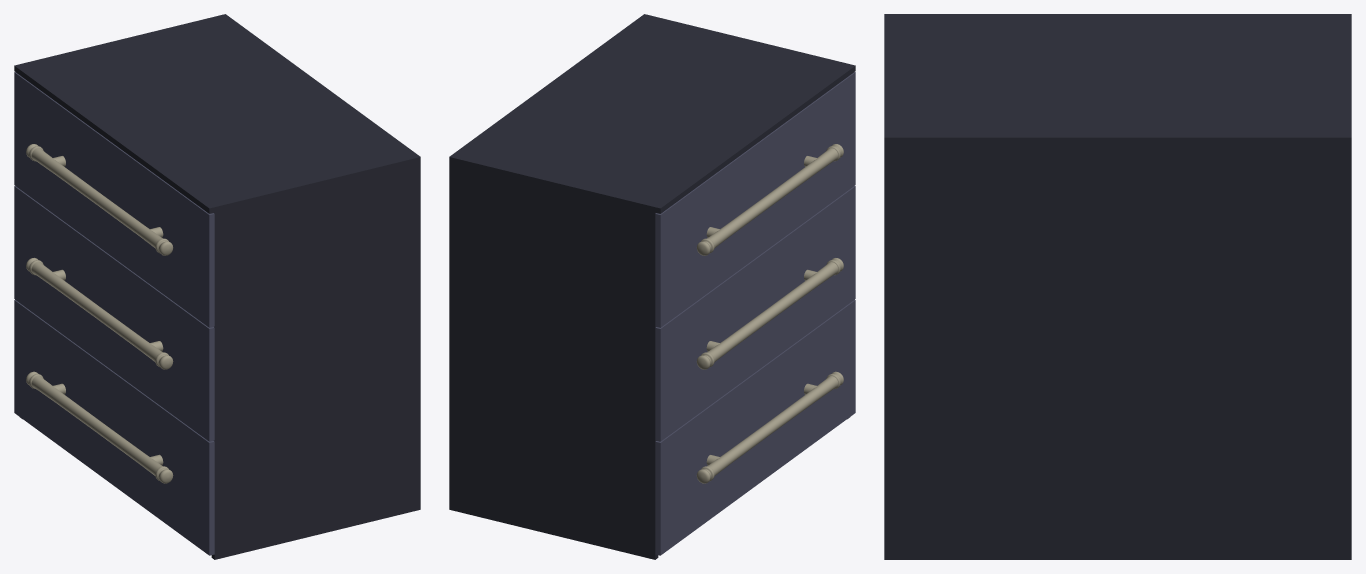
The model's file is house-cupboard.glb.
3 views of the same model, side by side, from view 1: azimuth 30°, elevation 25°; view 2: azimuth 150°, elevation 25°; view 3: azimuth 270°, elevation 25° (orthographic). The views are drawn at different scales.
Visible parts, largest first — view 1: CupBoard.001, CupBoard.003, CupBoard.002, CupBoard, CupBoard-Handle.002, CupBoard-Handle, CupBoard-Handle.001; view 2: CupBoard.001, CupBoard.003, CupBoard.002, CupBoard, CupBoard-Handle.002, CupBoard-Handle, CupBoard-Handle.001; view 3: CupBoard.001.
Boxes of the visible parts, x1,y1,x2,y2 form: CupBoard.001: [14, 14, 420, 559]; CupBoard.003: [14, 300, 214, 555]; CupBoard.002: [14, 186, 214, 441]; CupBoard: [14, 72, 214, 327]; CupBoard-Handle.002: [26, 371, 173, 483]; CupBoard-Handle: [26, 144, 173, 255]; CupBoard-Handle.001: [26, 257, 173, 369]; CupBoard.001: [449, 14, 855, 559]; CupBoard.003: [655, 300, 855, 555]; CupBoard.002: [655, 186, 855, 441]; CupBoard: [655, 72, 855, 327]; CupBoard-Handle.002: [696, 371, 843, 483]; CupBoard-Handle: [696, 144, 843, 255]; CupBoard-Handle.001: [696, 258, 843, 369]; CupBoard.001: [884, 14, 1351, 559].
Bounding box in the file's own units: 0.436 × 0.638 × 0.64.
